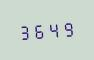four: (46, 20, 59, 39)
nine: (60, 19, 73, 38)
six: (32, 21, 45, 40)
three: (18, 22, 31, 41)
